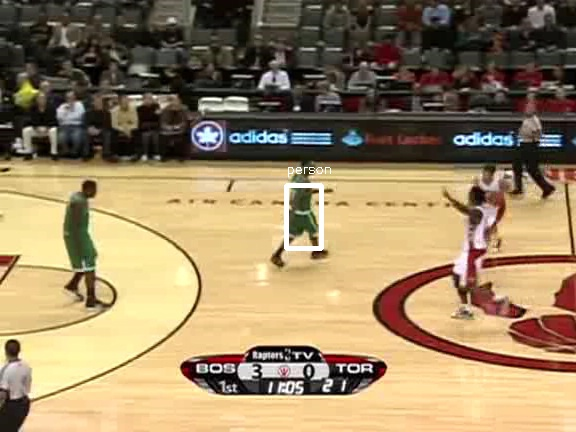person: (285, 169, 319, 250), (284, 169, 318, 250), (286, 169, 320, 250), (285, 168, 319, 249), (285, 170, 319, 251)
target_negative: (212, 234, 540, 298), (184, 46, 281, 113), (516, 190, 574, 279), (124, 336, 339, 354), (498, 133, 505, 217), (82, 363, 89, 399)
